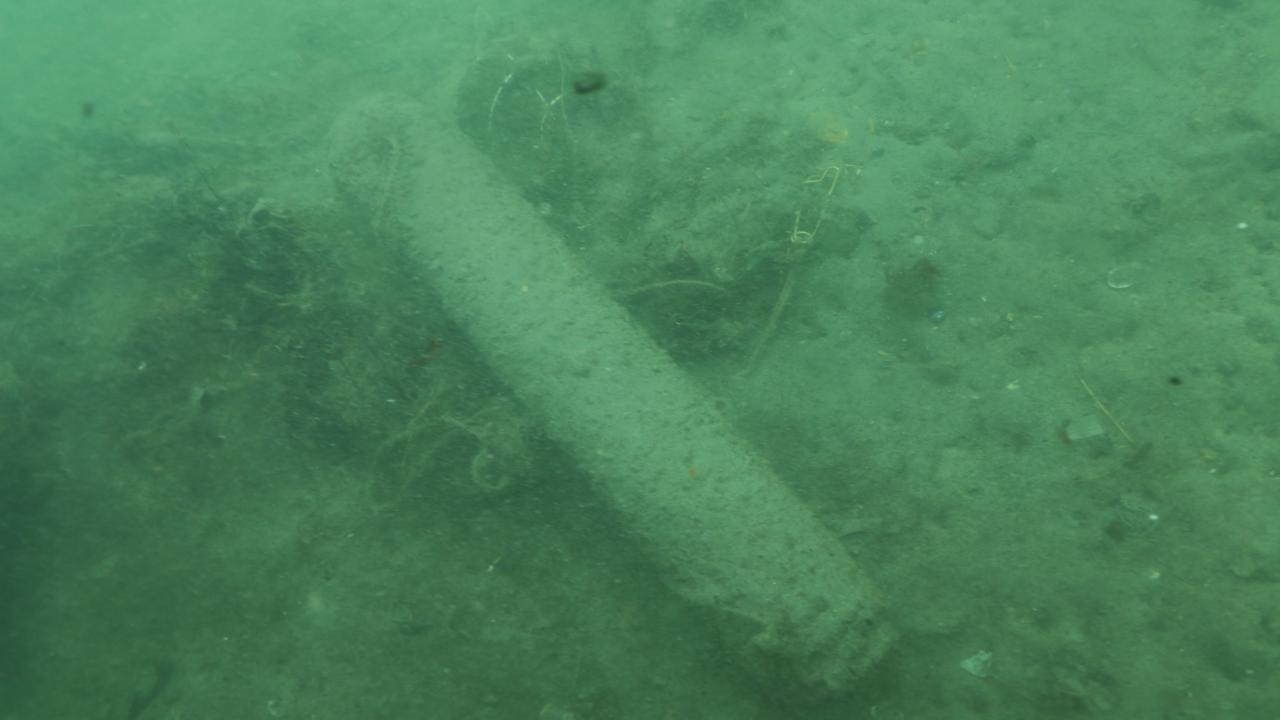eel fish trap: (324, 87, 905, 710)
